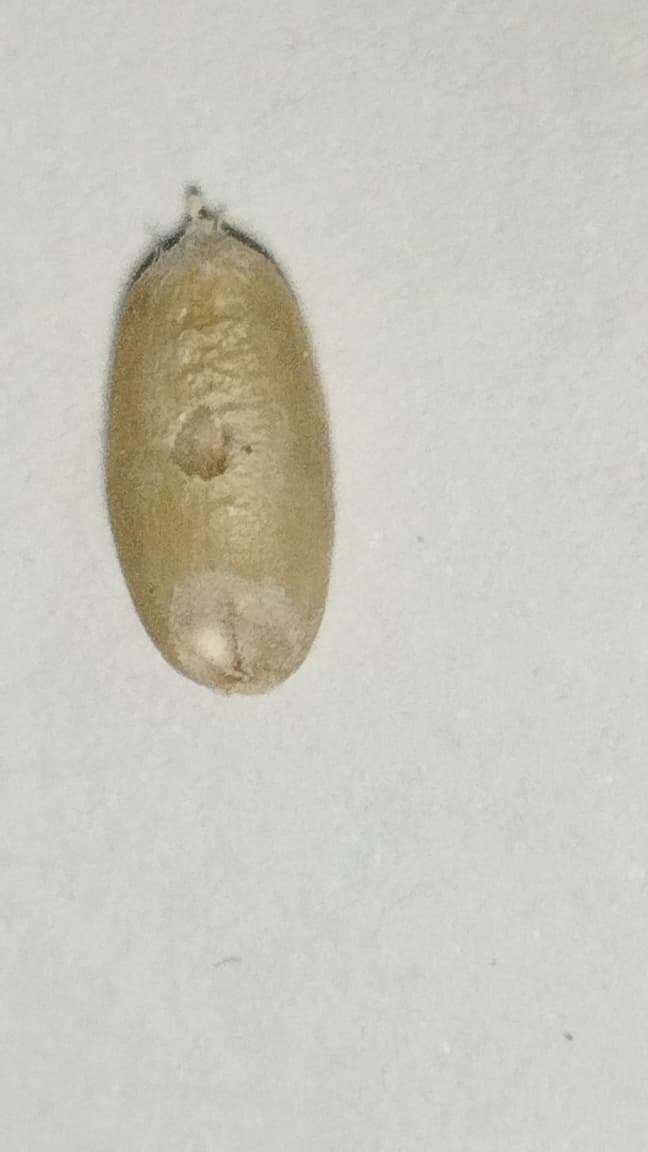damage: (97, 186, 339, 704)
insectdamage: (160, 569, 318, 697), (153, 369, 264, 510)
